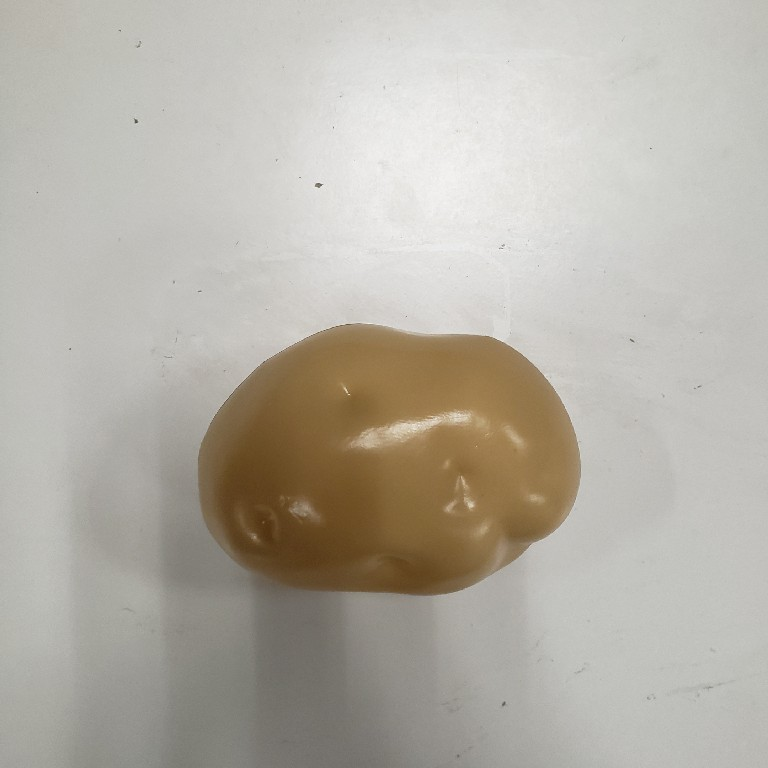fruit_potato: (189, 316, 585, 600)
